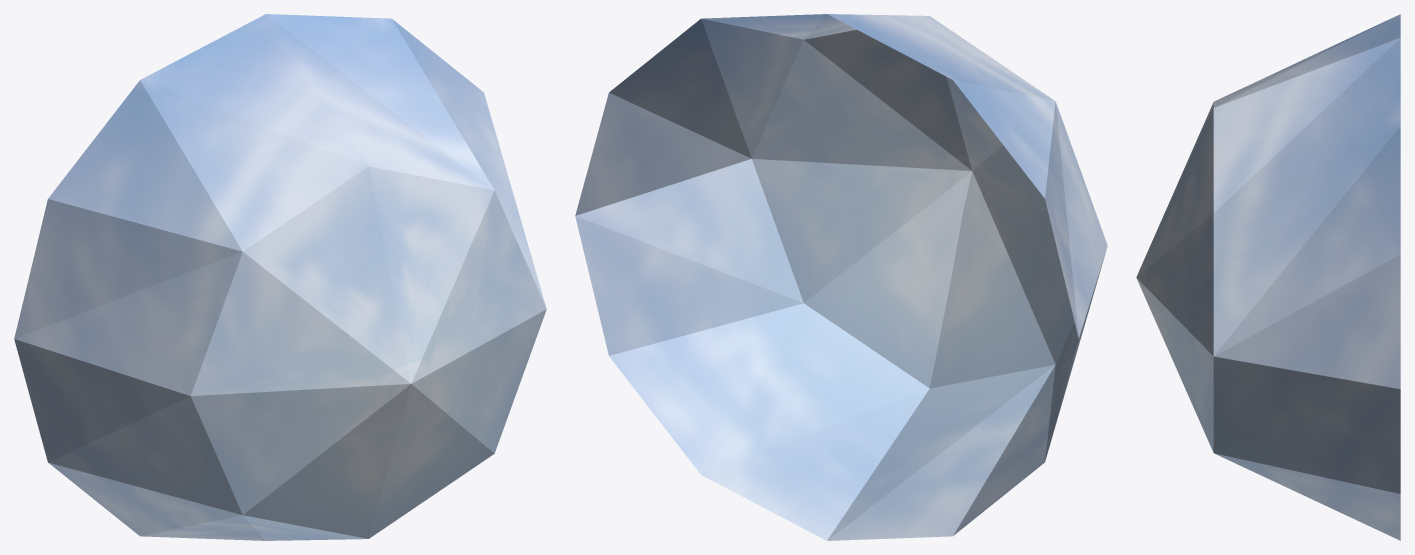
The model's file is sky_clouds_1.obj.
The picture shows the model from 3 angles, left to right: view 1: azimuth 30°, elevation 25°; view 2: azimuth 150°, elevation 25°; view 3: azimuth 270°, elevation 25°; orthographic projection. The views are drawn at different scales.
Parts seen in each view (by area): view 1: Sphere01; view 2: Sphere01; view 3: Sphere01.
Boxes of the visible parts, x1,y1,x2,y2 form: Sphere01: (14, 14, 546, 540); Sphere01: (575, 14, 1107, 540); Sphere01: (1136, 14, 1400, 540).
Size of the model in its own units: 200 by 200 by 100.
1 material, 1 textured.
